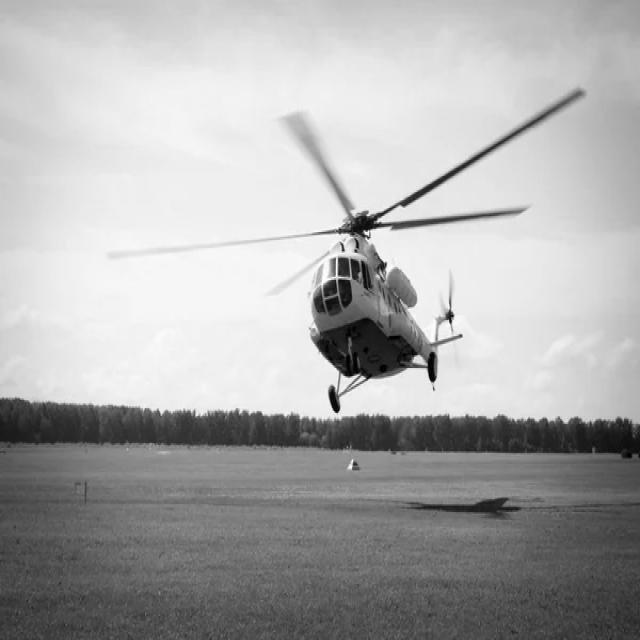Helicopter: (110, 91, 587, 412)
